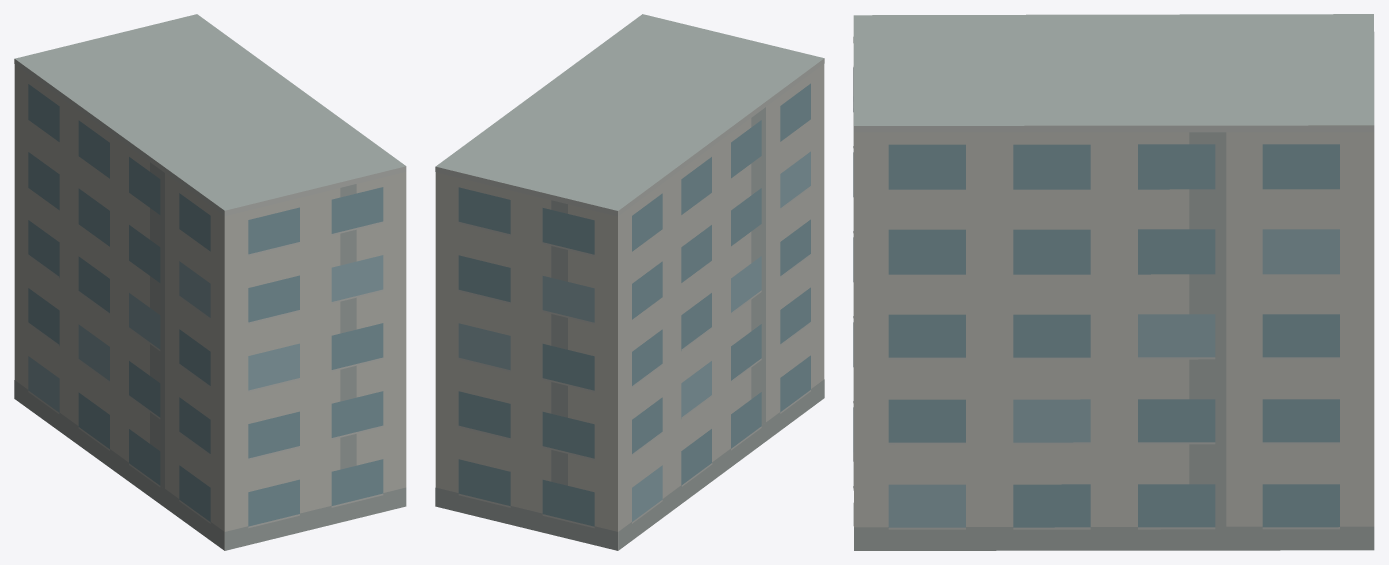
The model's file is survey-upis-32634207.glb.
3 renders of one model, left to right at view 1: azimuth 30°, elevation 25°; view 2: azimuth 150°, elevation 25°; view 3: azimuth 270°, elevation 25°, orthographic. The views are drawn at different scales.
Parts seen in each view (by area): view 1: survey-upis-32634207.tmp; view 2: survey-upis-32634207.tmp; view 3: survey-upis-32634207.tmp.
Boxes of the visible parts, x1=… form: survey-upis-32634207.tmp: x1=14, y1=14, x2=406, y2=550; survey-upis-32634207.tmp: x1=435, y1=14, x2=824, y2=550; survey-upis-32634207.tmp: x1=853, y1=14, x2=1374, y2=550.
Size of the model in its own units: 8.64 by 15.25 by 16.97.
